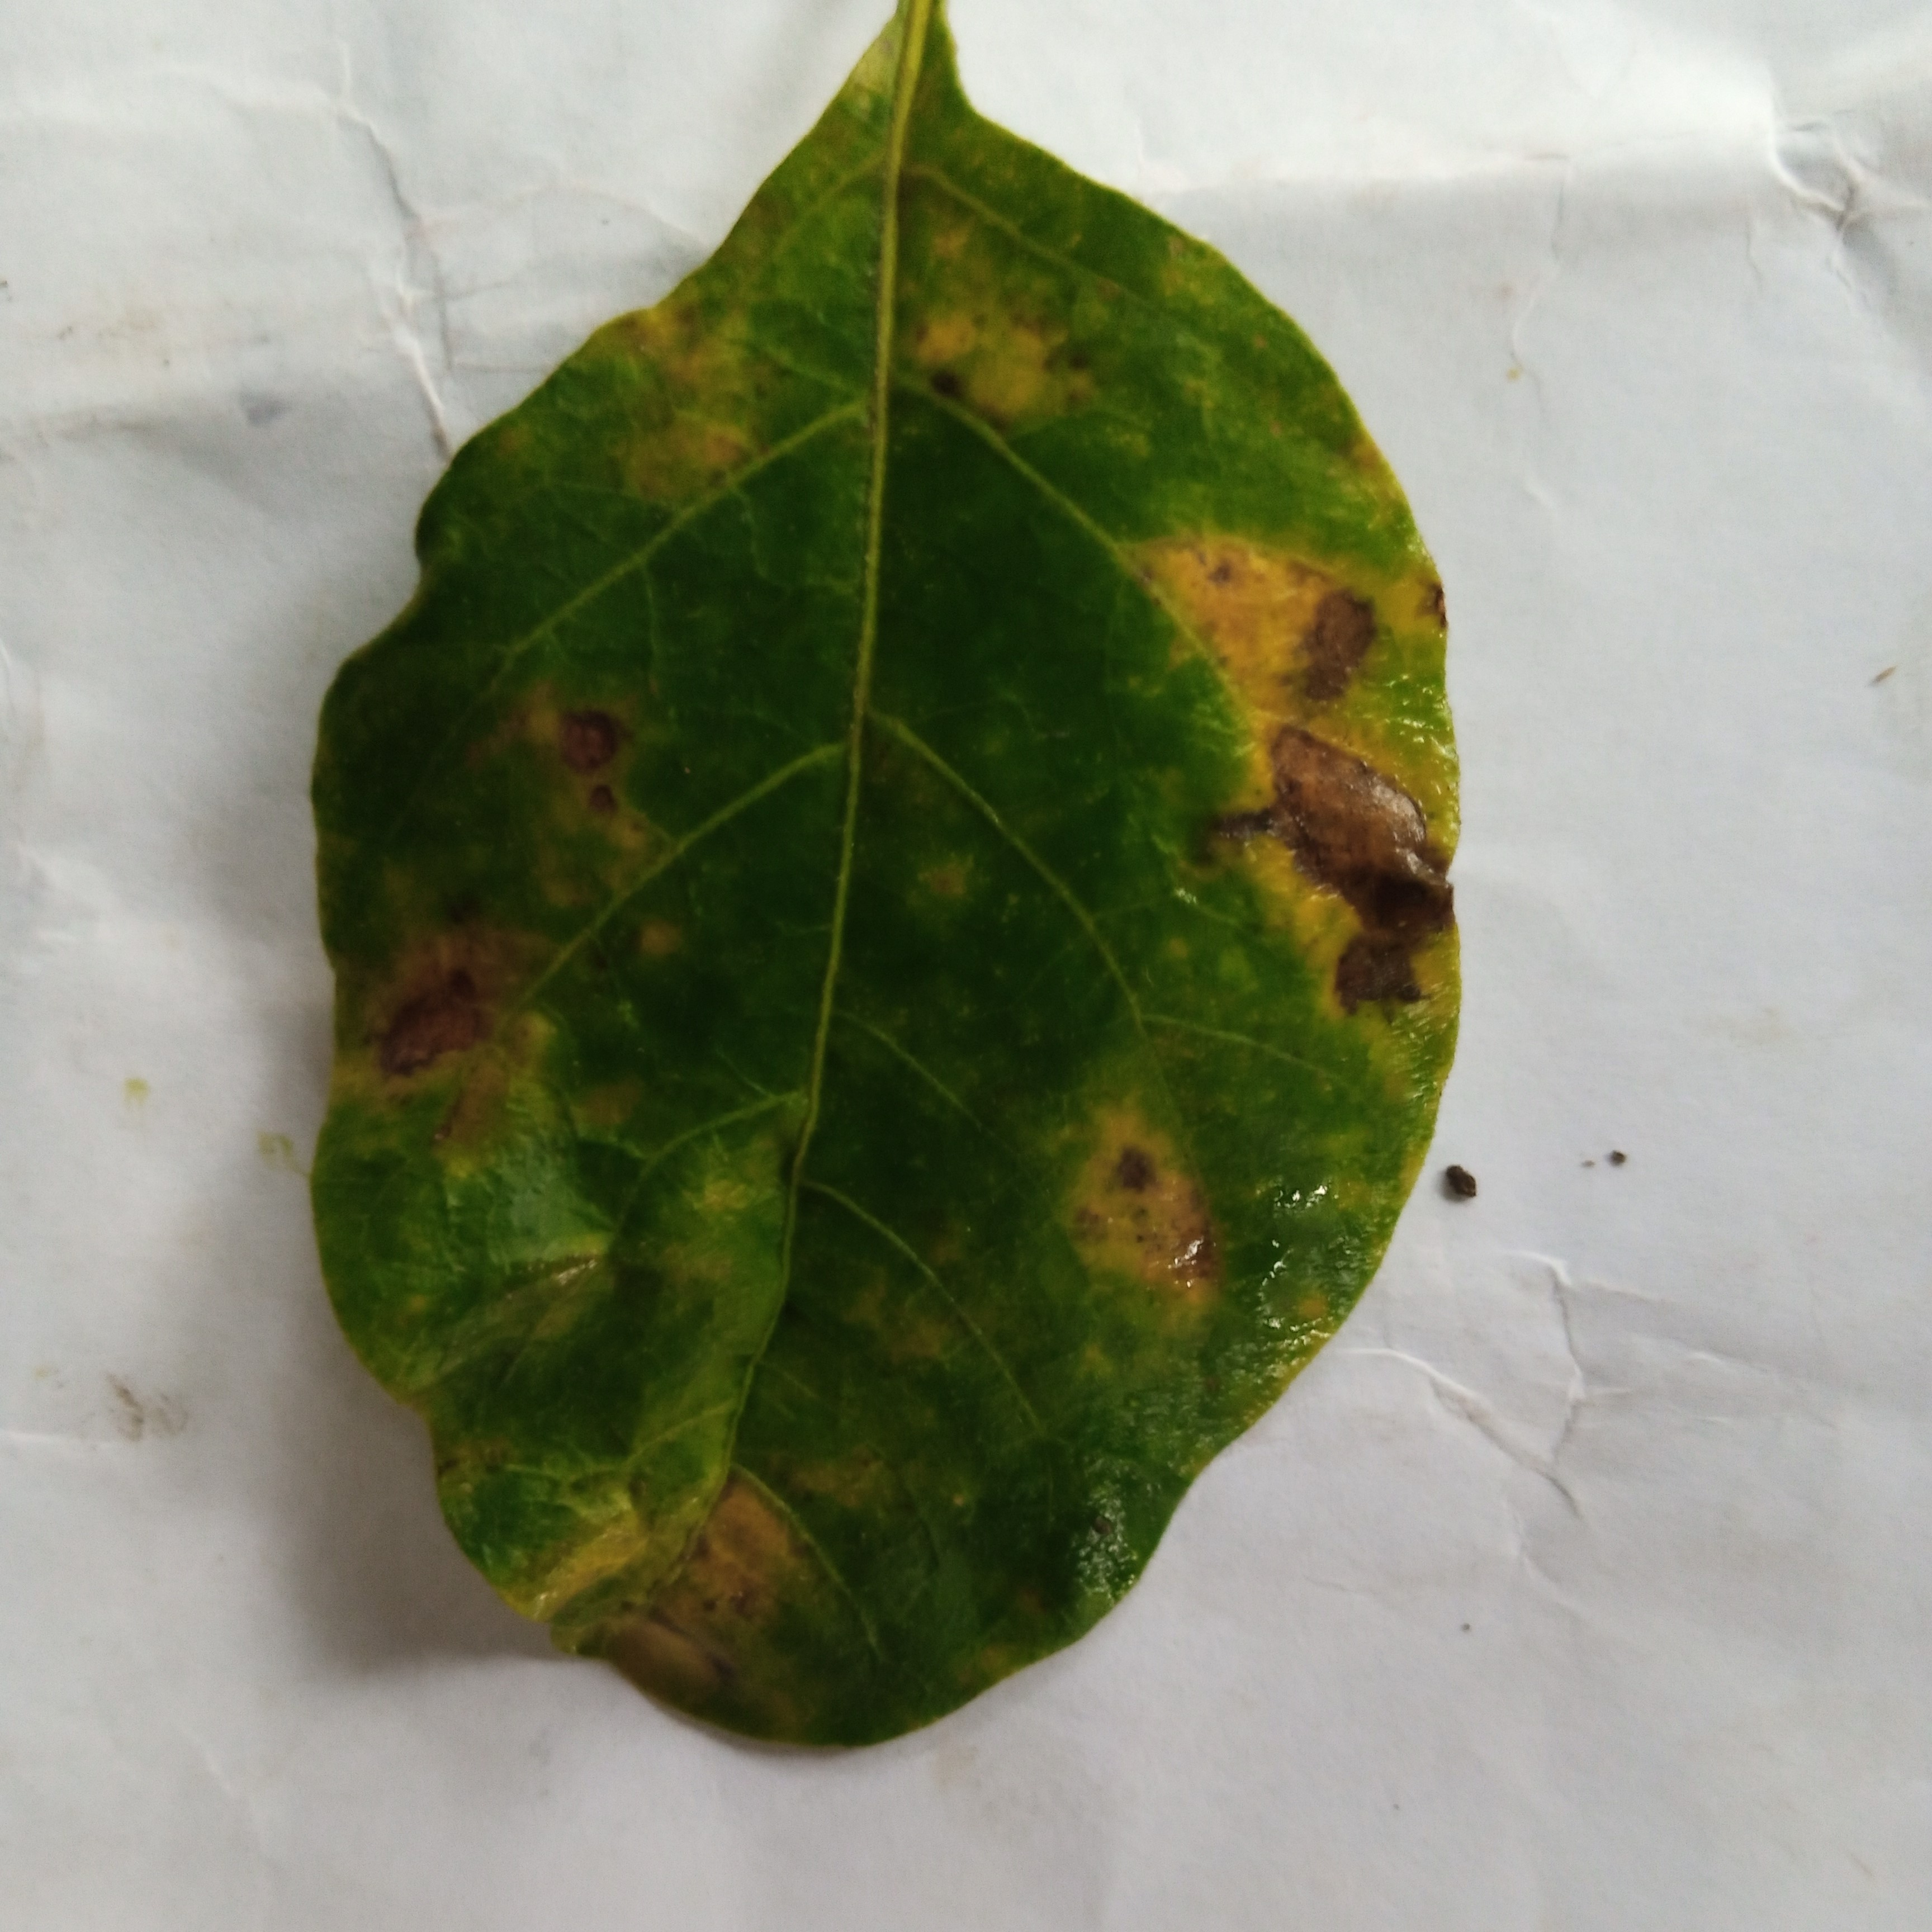Leaf: (295, 35, 1598, 1833)
